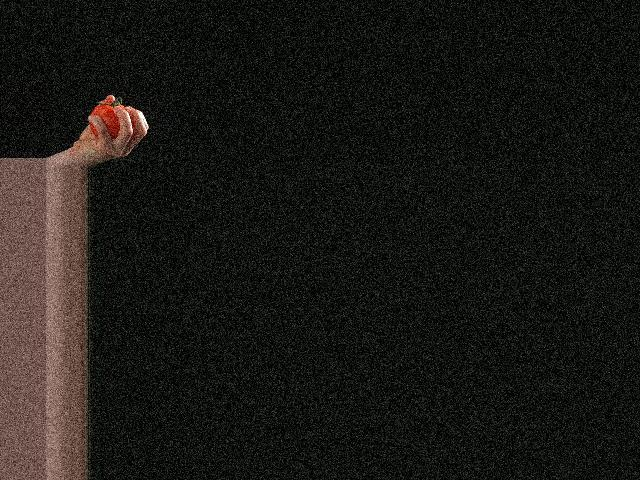tomato: (89, 104, 124, 140)
